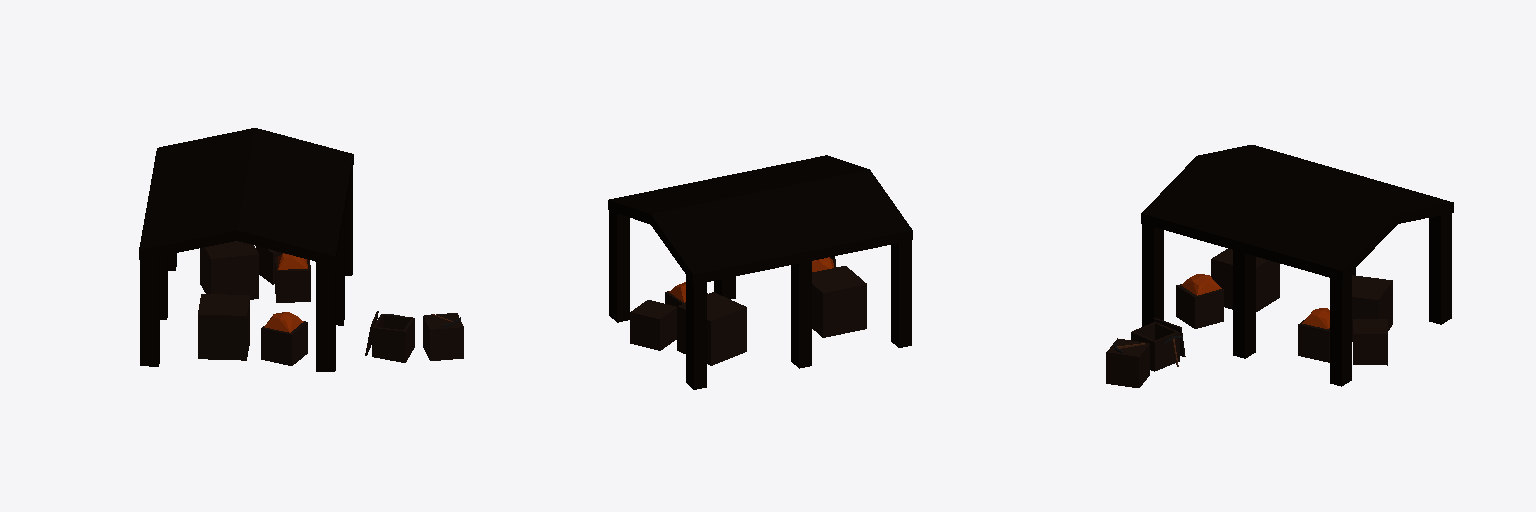
The model's file is ResourceCamp.obj.
3 renders of one model, left to right at view 1: azimuth 30°, elevation 25°; view 2: azimuth 150°, elevation 25°; view 3: azimuth 270°, elevation 25°, orthographic.
Visible parts, largest first — view 1: ResourceHut_ResourceHut_PointyTower_Cylinder.001; view 2: ResourceHut_ResourceHut_PointyTower_Cylinder.001; view 3: ResourceHut_ResourceHut_PointyTower_Cylinder.001.
Boxes of the visible parts, x1=… form: ResourceHut_ResourceHut_PointyTower_Cylinder.001: x1=139, y1=128, x2=463, y2=371; ResourceHut_ResourceHut_PointyTower_Cylinder.001: x1=608, y1=155, x2=912, y2=389; ResourceHut_ResourceHut_PointyTower_Cylinder.001: x1=1106, y1=145, x2=1453, y2=387.
Bounding box in the file's own units: 1.75 × 0.9041 × 2.01.